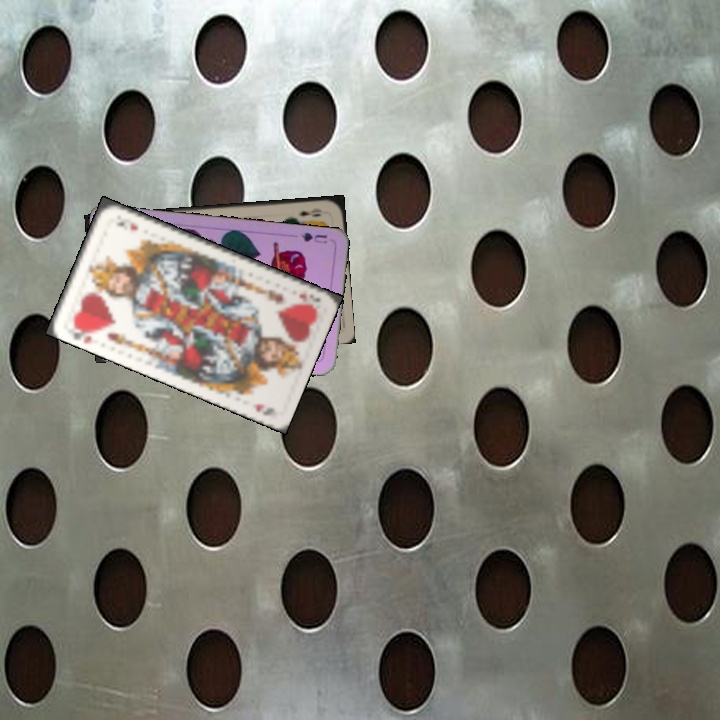EO: (296, 204, 324, 219)
GU: (297, 228, 330, 246)
HK: (69, 319, 100, 346), (295, 289, 324, 305)
